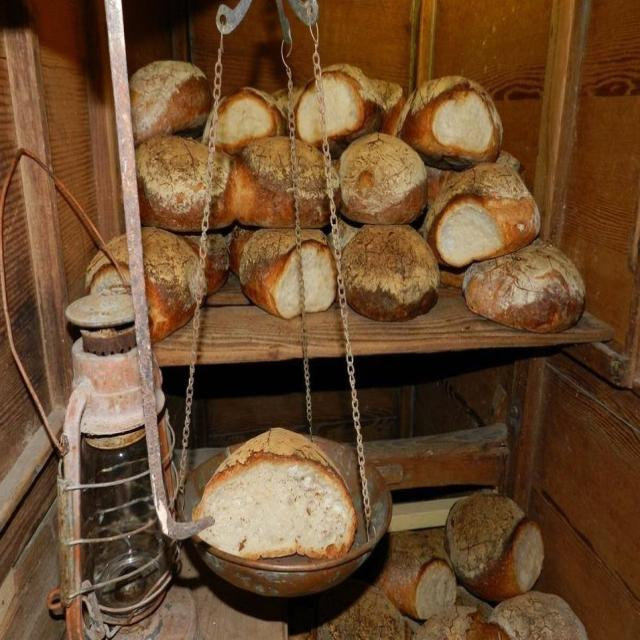Maltese-Bread: (196, 428, 357, 560), (421, 162, 540, 268), (462, 239, 585, 332), (446, 492, 544, 601), (383, 76, 503, 162), (340, 225, 440, 320), (231, 229, 335, 319), (339, 132, 428, 222), (375, 533, 456, 620), (141, 227, 202, 342), (135, 135, 208, 231), (131, 61, 210, 146), (322, 65, 405, 142), (231, 136, 294, 226), (216, 88, 285, 151), (85, 235, 131, 294), (209, 152, 244, 229), (298, 140, 329, 226), (205, 233, 231, 296), (295, 82, 320, 145), (179, 235, 199, 254), (331, 161, 340, 201)
